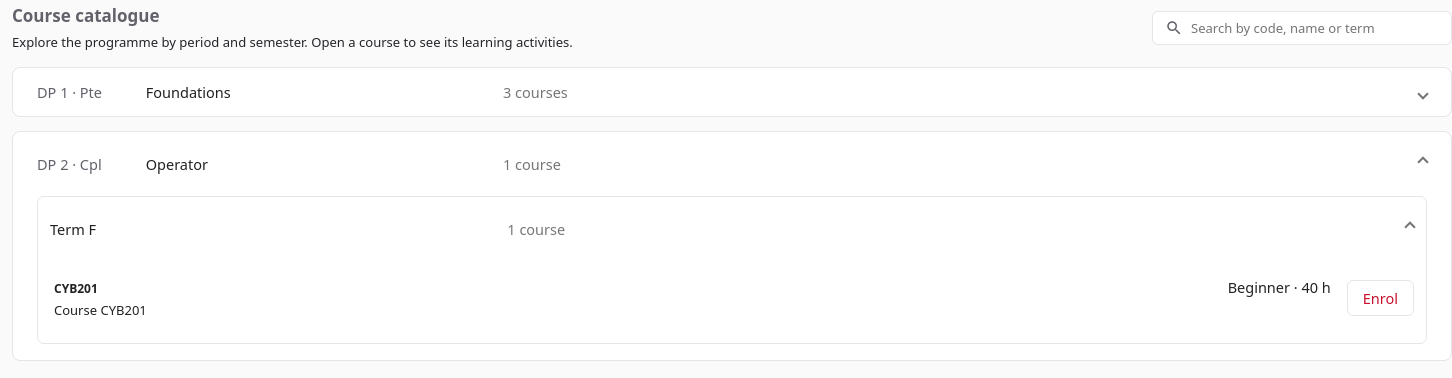
it: CourseCatalogueComponent › marks an unpublished course as a draft
Type "CST102" into the search field with placeholder "Search by code, name or term" at point(1314, 28), box [1189, 18, 1439, 38]
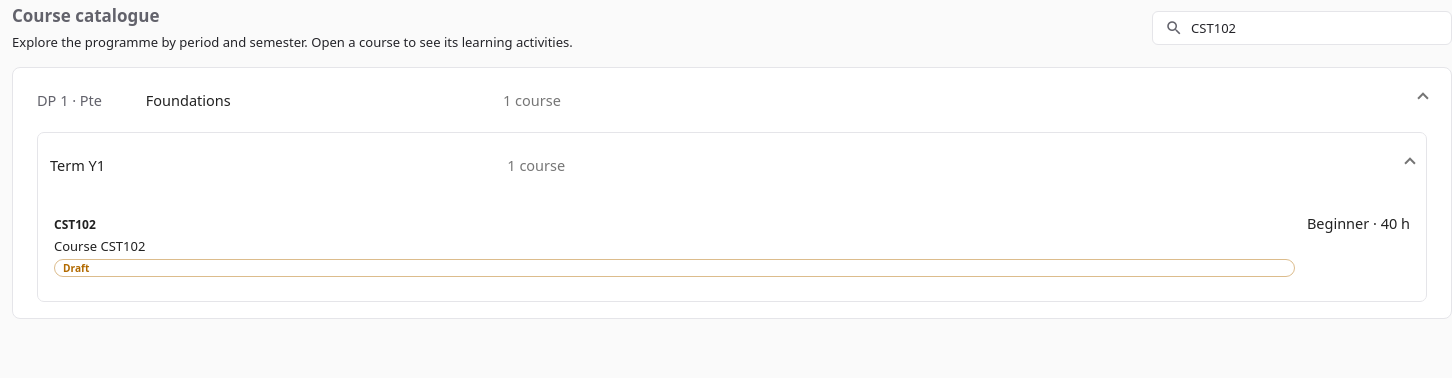
expect the text with class "draft" reads "Draft": met, box [63, 261, 89, 275]
